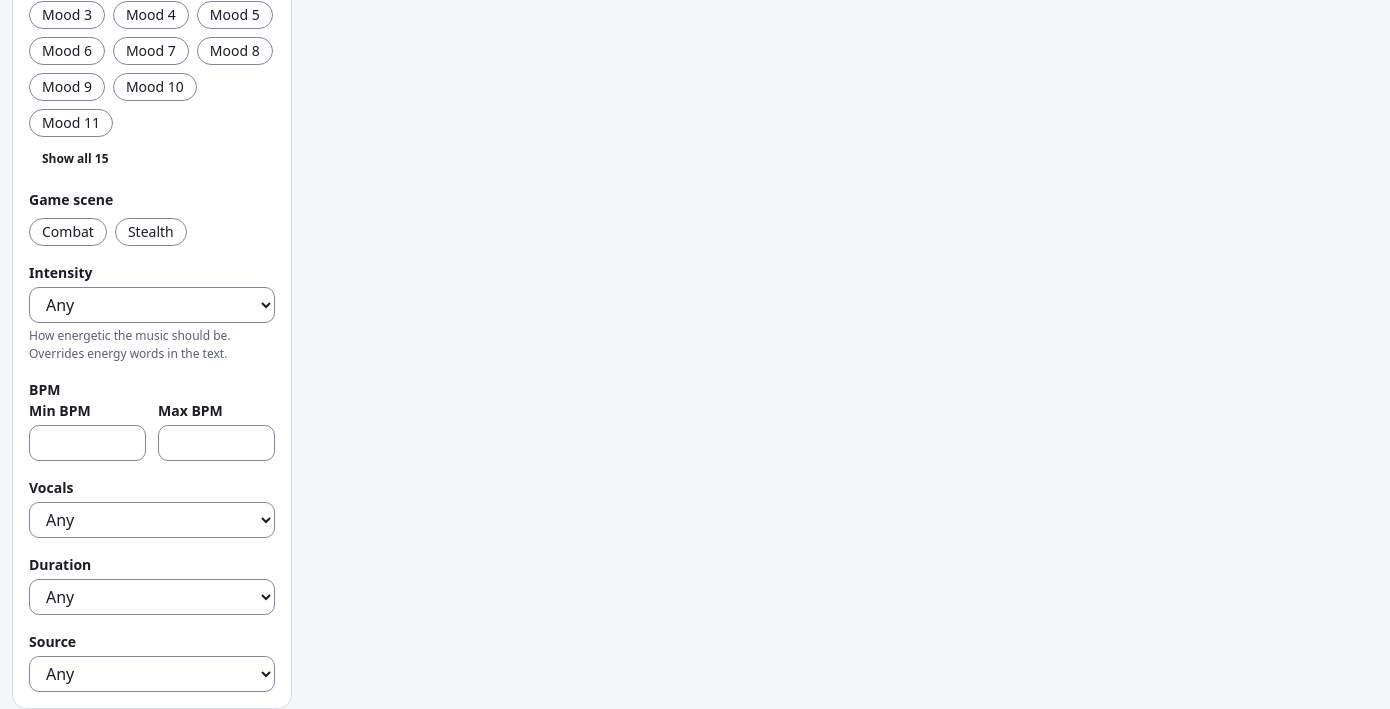
it: Search page: filters › offers Freesound as a source filter
The image size is (1390, 709).
(page scrolled)
Select "Freesound" in the dropdown labelled "Source": (152, 674) [29, 656, 275, 692]
(page scrolled)
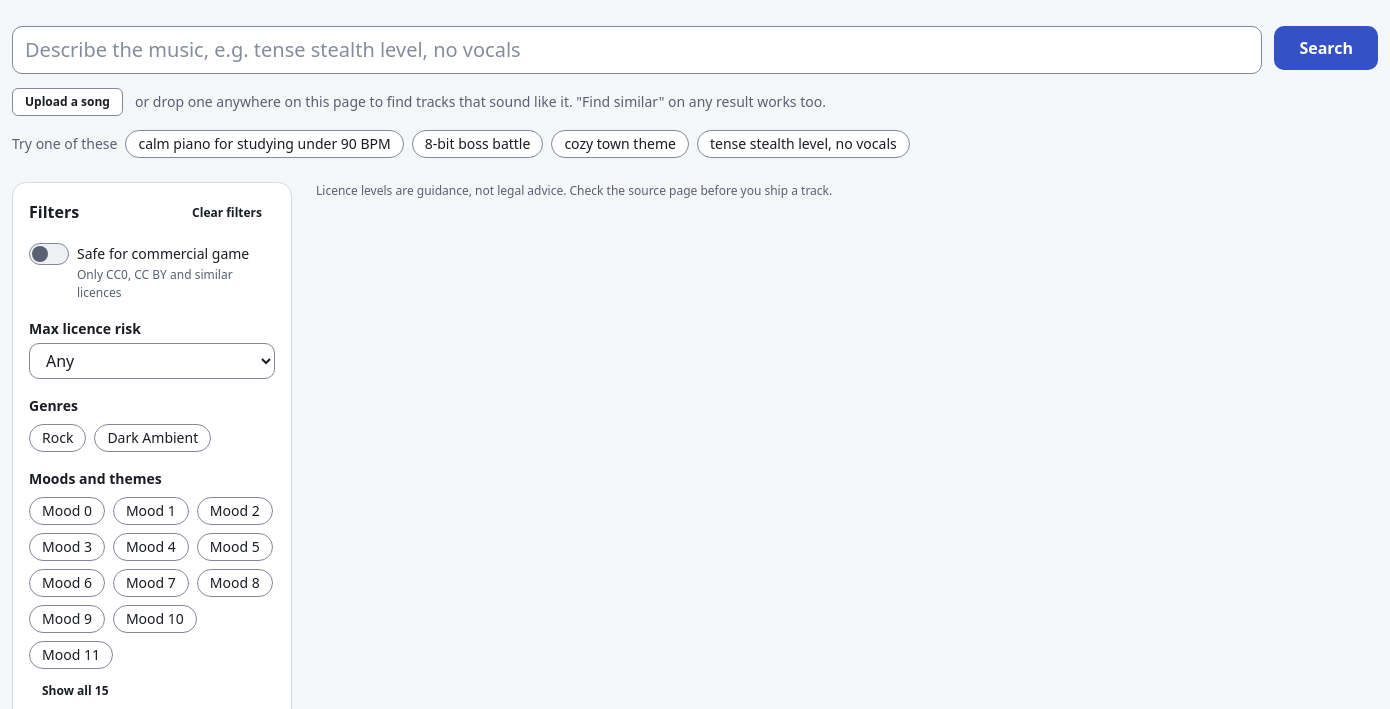
In the field named "Describe the music you need": (637, 50) [12, 26, 1262, 74], type "loop"
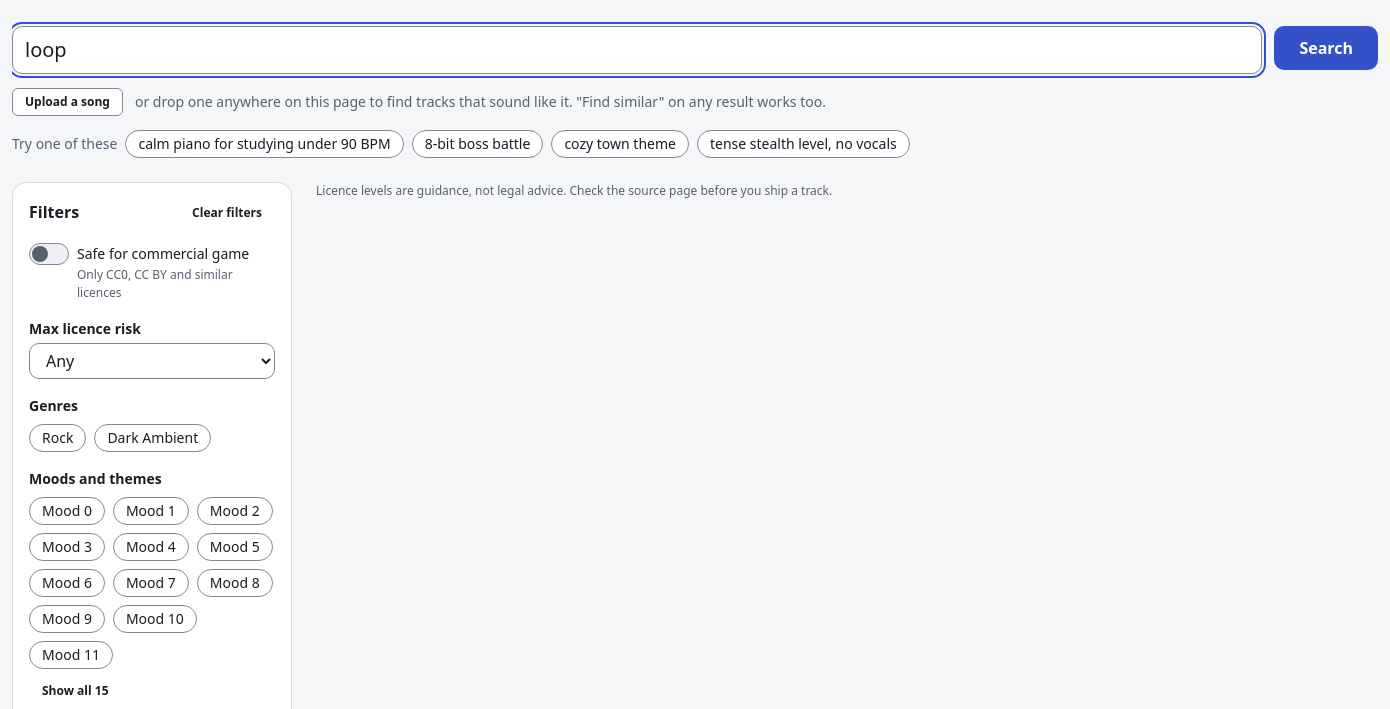
Click the button "Search": (1326, 48) [1274, 26, 1378, 70]
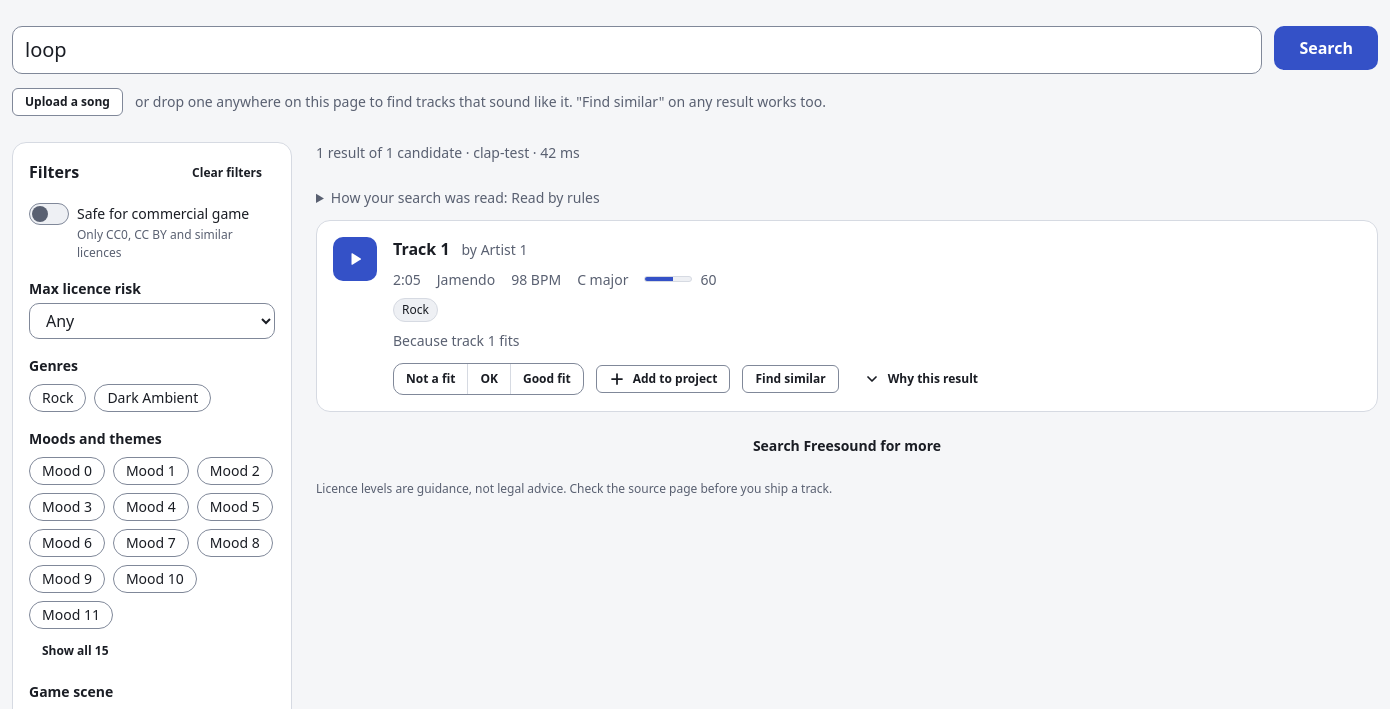
Check: the button "Track 1" is shown, box [393, 236, 450, 260]
